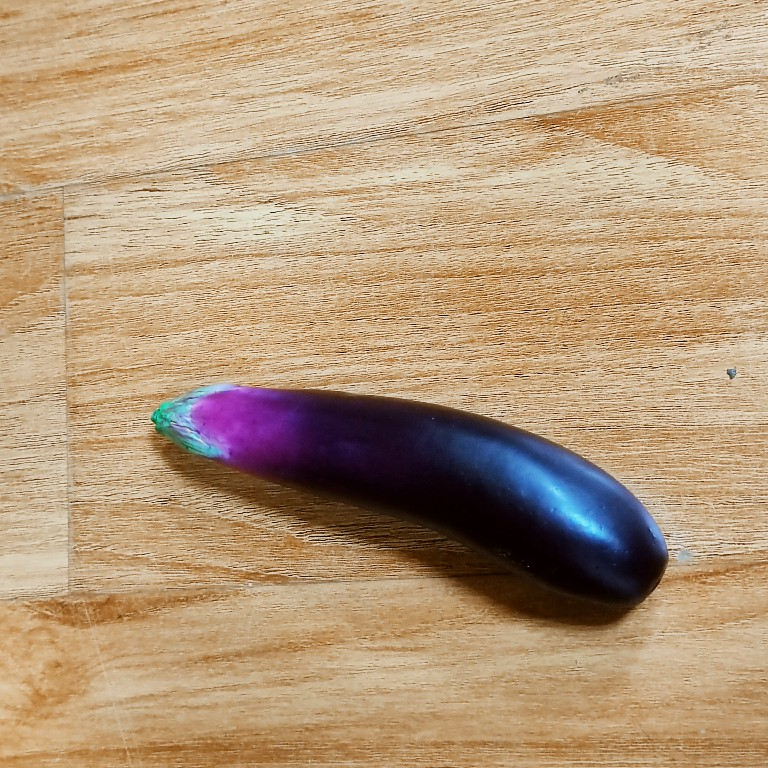fruit_eggplant: (148, 378, 673, 615)
